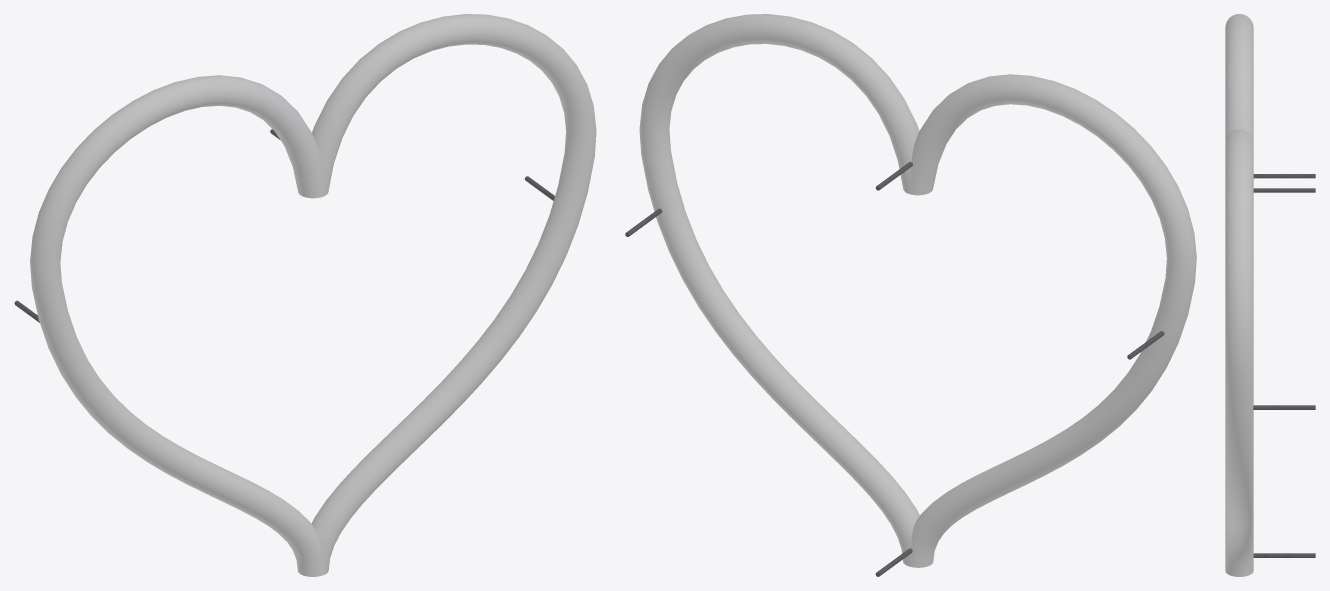
File: neon-heart.glb
3 views of the same model, side by side, from view 1: azimuth 30°, elevation 25°; view 2: azimuth 150°, elevation 25°; view 3: azimuth 270°, elevation 25° (orthographic). The views are drawn at different scales.
Parts seen in each view (by area): view 1: heart; view 2: heart; view 3: heart.
Boxes of the visible parts, left/top/right/bottom form: heart: left=14, top=14, right=596, bottom=576; heart: left=625, top=14, right=1196, bottom=576; heart: left=1225, top=14, right=1315, bottom=576.
Size of the model in its own units: 70.04 by 61.92 by 10.49.
Materials: 1 (1 with a texture image).
